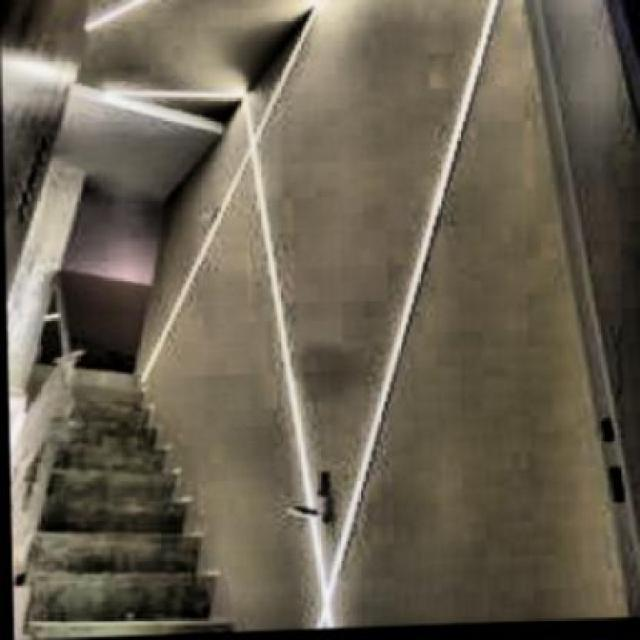stair: (6, 366, 271, 639)
